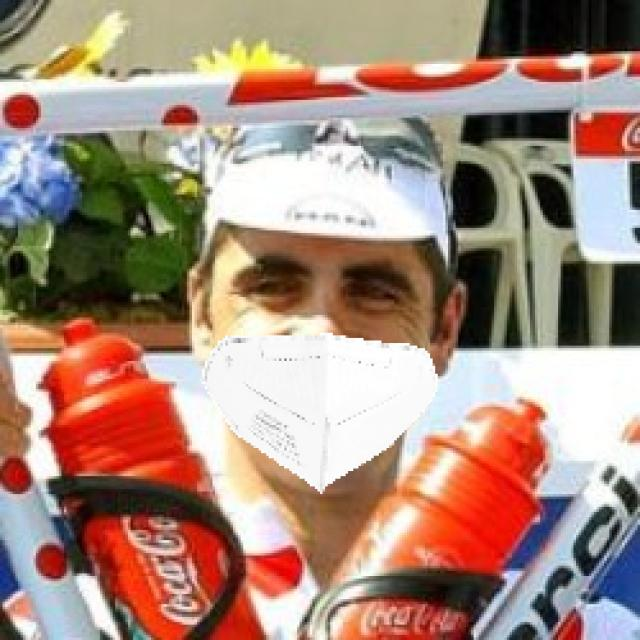mask: (186, 308, 453, 496)
